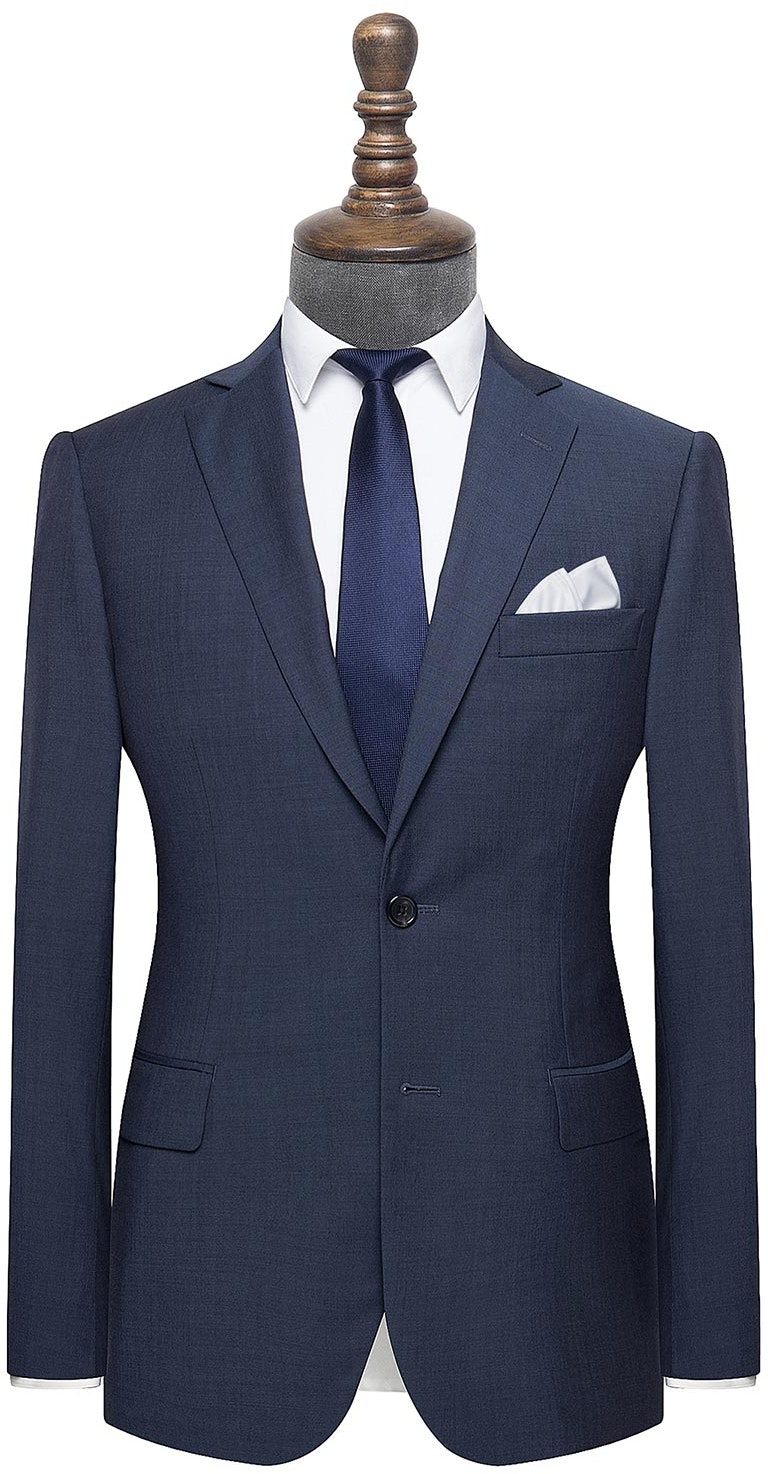F_M_suit jacket: (8, 339, 752, 1415)
F_pocket square: (487, 537, 637, 625)
F_tie: (323, 342, 449, 801)
